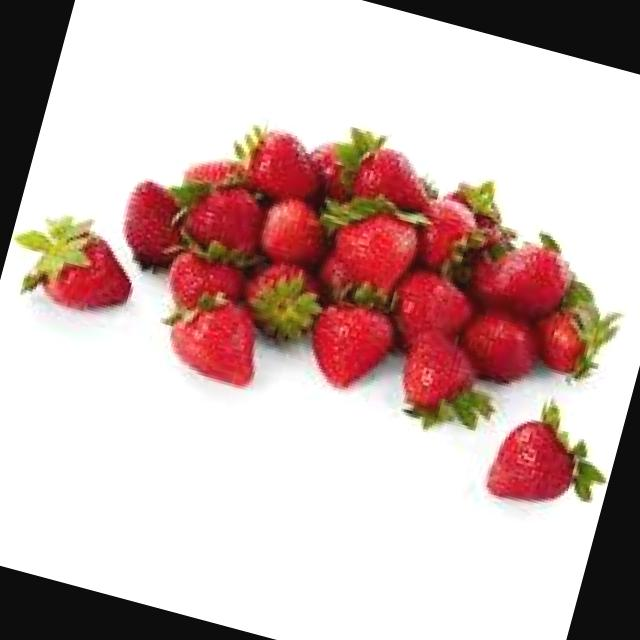strawberry: (470, 394, 614, 522), (16, 207, 161, 326), (152, 287, 274, 392), (386, 322, 496, 436), (465, 224, 588, 323), (316, 191, 421, 300), (297, 285, 396, 394), (172, 169, 276, 268), (240, 120, 334, 206)
